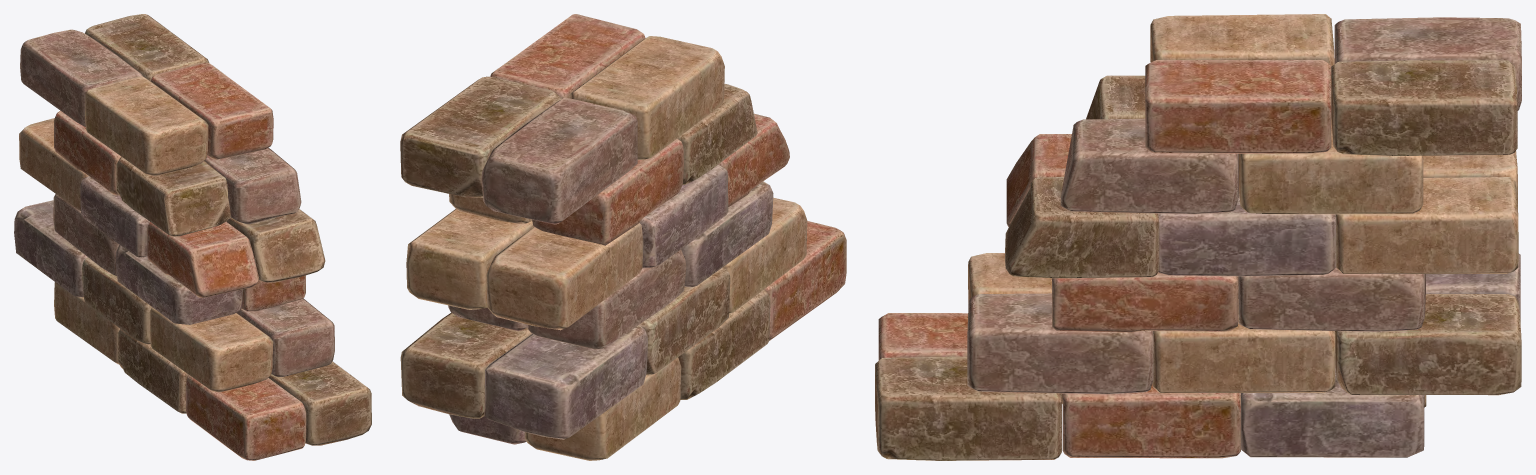
3 views of the same model, side by side, from view 1: azimuth 30°, elevation 25°; view 2: azimuth 150°, elevation 25°; view 3: azimuth 270°, elevation 25° (orthographic). The views are drawn at different scales.
Visible parts, largest first — view 1: SM_Human_Ruins_Brick_Dmg_03_LOD0; view 2: SM_Human_Ruins_Brick_Dmg_03_LOD0; view 3: SM_Human_Ruins_Brick_Dmg_03_LOD0.
Part boxes in pixels (left/top/right/bottom): SM_Human_Ruins_Brick_Dmg_03_LOD0: left=14, top=14, right=371, bottom=460; SM_Human_Ruins_Brick_Dmg_03_LOD0: left=400, top=14, right=846, bottom=460; SM_Human_Ruins_Brick_Dmg_03_LOD0: left=875, top=14, right=1521, bottom=460.
Size of the model in its own units: 0.3775 by 0.6972 by 1.13.
Materials: 1 (1 with a texture image).
